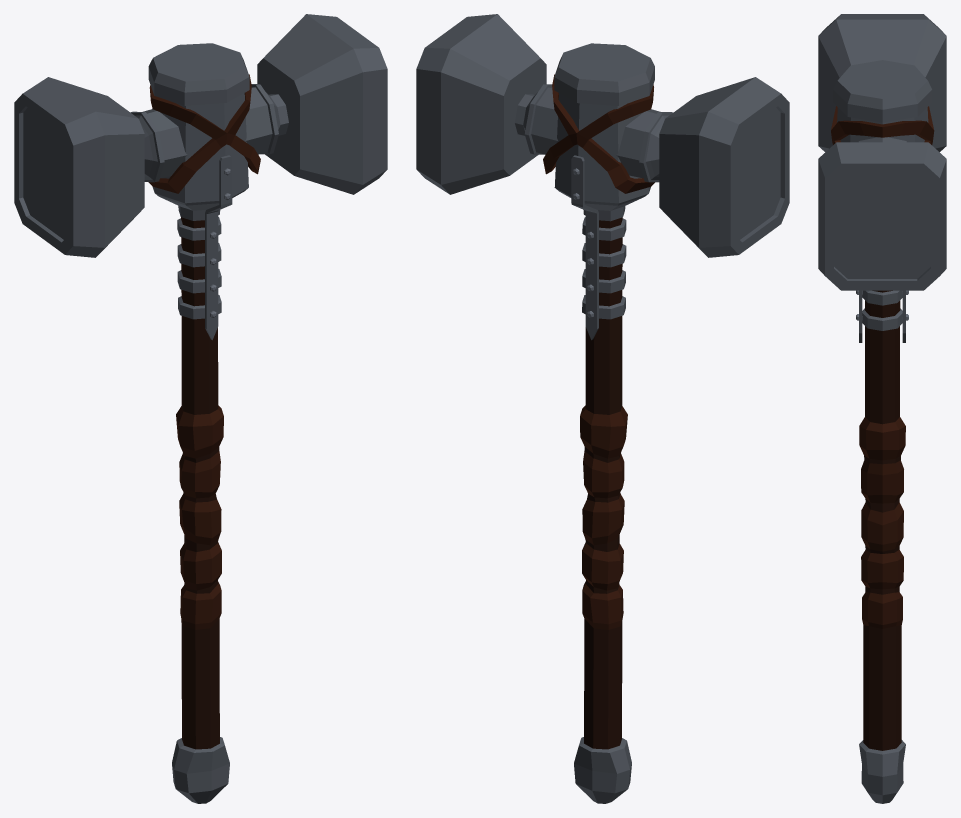
Rendered from Hammer_Double.glb.
The picture shows the model from 3 angles, left to right: view 1: azimuth 30°, elevation 25°; view 2: azimuth 150°, elevation 25°; view 3: azimuth 270°, elevation 25°; orthographic projection. The views are drawn at different scales.
Parts seen in each view (by area): view 1: Hammer_Double; view 2: Hammer_Double; view 3: Hammer_Double.
Boxes of the visible parts, bbox=[...] form: Hammer_Double: bbox=[14, 14, 387, 803]; Hammer_Double: bbox=[416, 14, 789, 803]; Hammer_Double: bbox=[818, 14, 946, 803].
Bounding box in the file's own units: 222 × 497 × 80.57.
